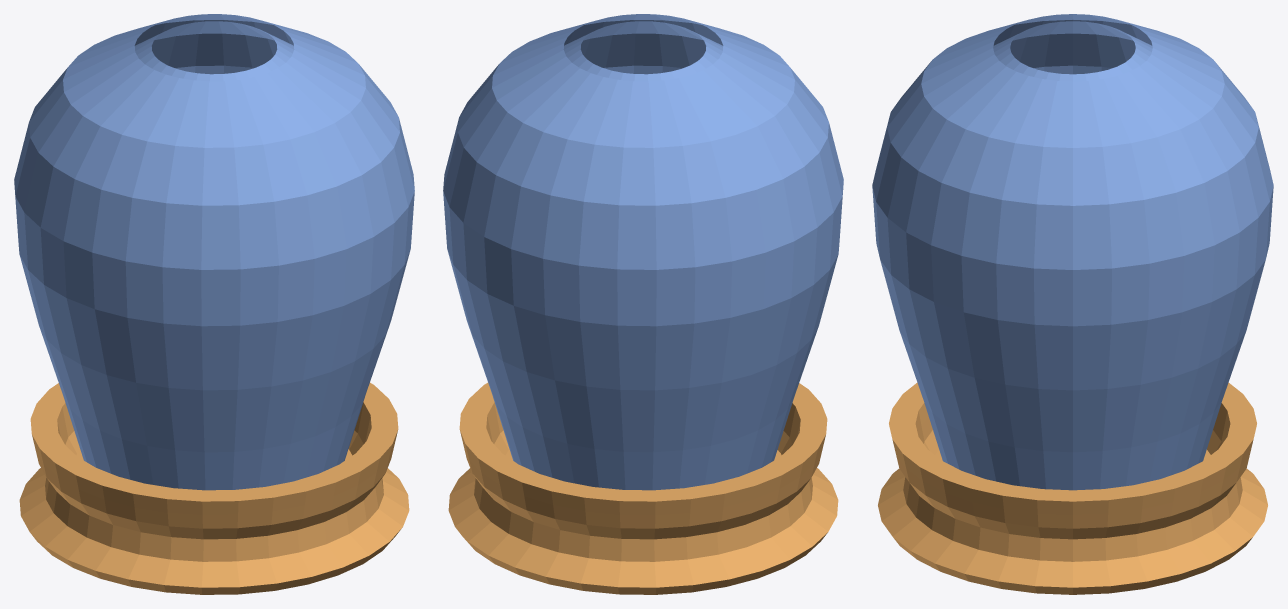
The model's file is RiverLantern 1.fbx.
3 views of the same model, side by side, from view 1: azimuth 30°, elevation 25°; view 2: azimuth 150°, elevation 25°; view 3: azimuth 270°, elevation 25° (orthographic).
Parts seen in each view (by area): view 1: Circle; view 2: Circle; view 3: Circle.
Boxes of the visible parts, box(x1,y1,x2,y2) form: Circle: box(14, 14, 414, 594); Circle: box(443, 14, 843, 594); Circle: box(872, 14, 1273, 594).
Size of the model in its own units: 241 by 310 by 241.
